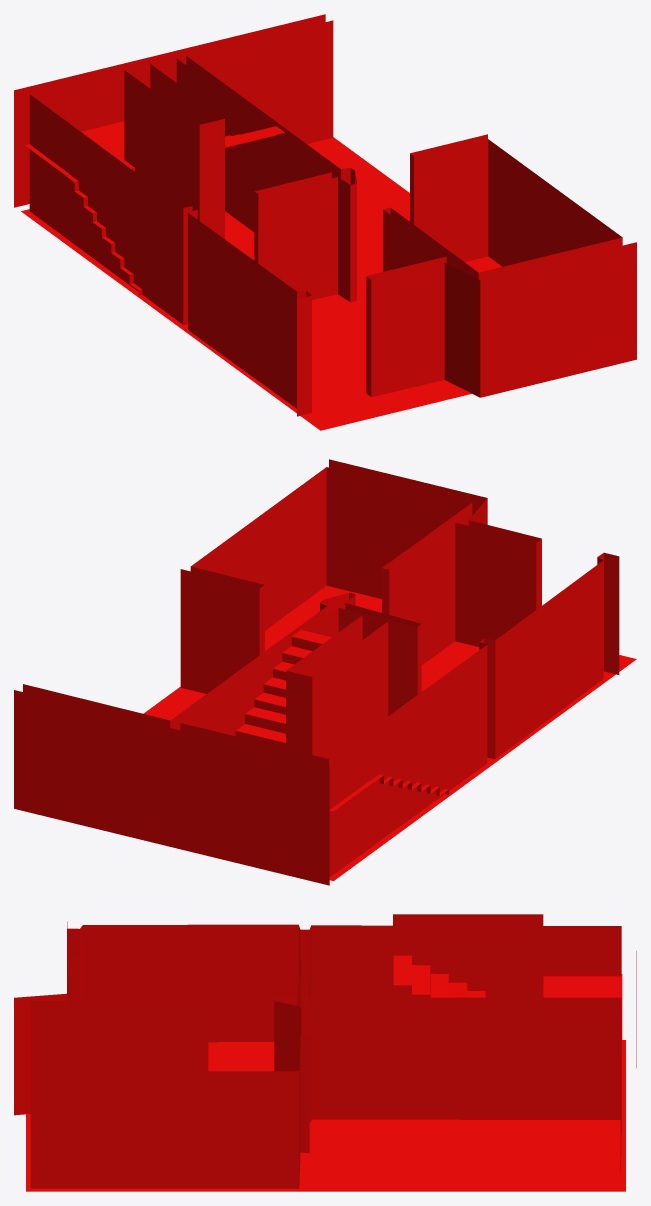
Rendered from floor1-s1-collision.gltf.
3 renders of one model, top to bottom at view 1: azimuth 30°, elevation 25°; view 2: azimuth 150°, elevation 25°; view 3: azimuth 270°, elevation 25°, orthographic.
Visible parts, largest first — view 1: collision; view 2: collision; view 3: collision.
Boxes of the visible parts, x1,y1,x2,y2 form: collision: [14, 14, 636, 430]; collision: [14, 459, 636, 885]; collision: [14, 914, 636, 1191].
Size of the model in its own units: 6.64 by 3.31 by 11.42.
